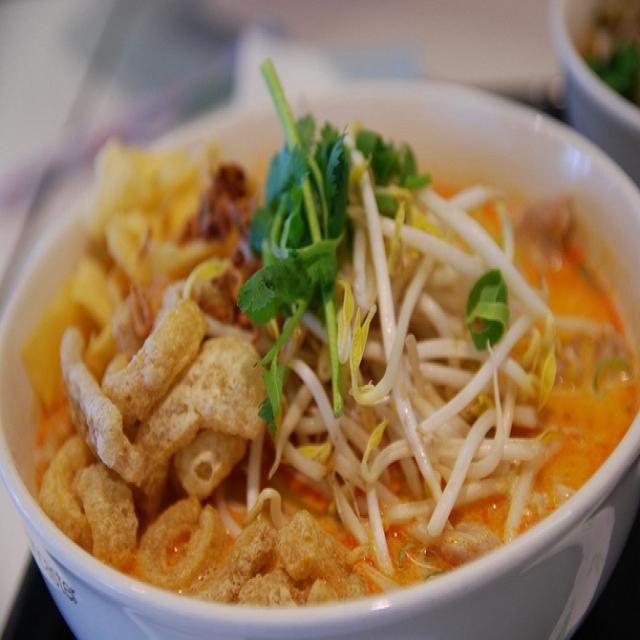面条主食: (31, 63, 614, 612)
